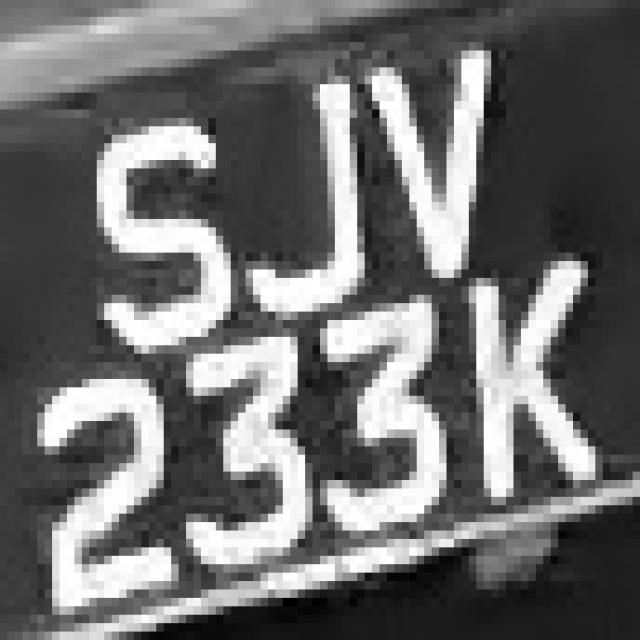2: (22, 337, 186, 631)
3: (178, 328, 328, 606), (305, 295, 447, 564)
J: (216, 59, 372, 328)
K: (461, 245, 603, 548)
S: (75, 51, 238, 362)
V: (365, 34, 543, 303)
